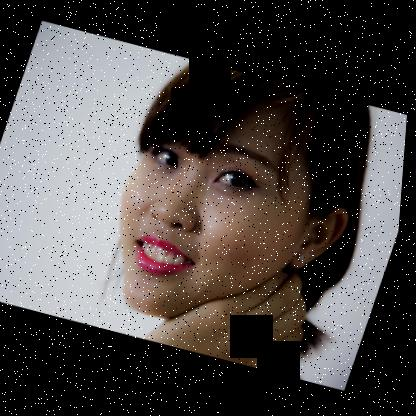Female: (86, 63, 386, 354)
